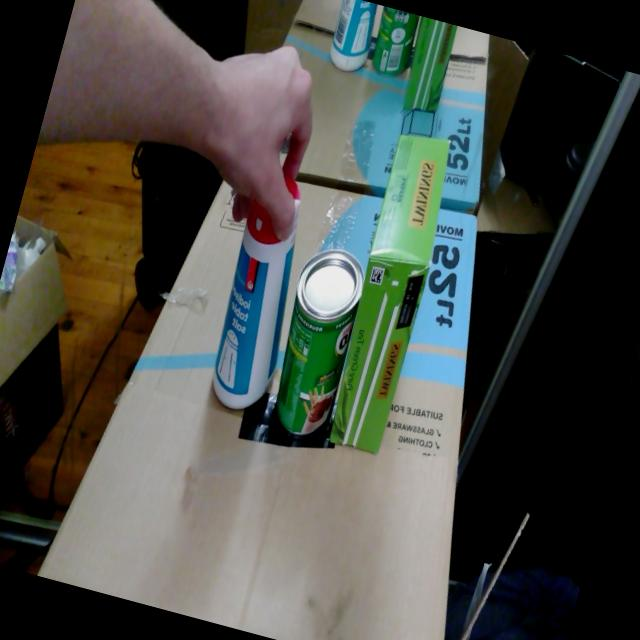nestle_milo_tin: (275, 249, 363, 438)
twinings_greentea_box: (329, 135, 450, 454)
woolworths_salt_bottle: (212, 176, 301, 410)
